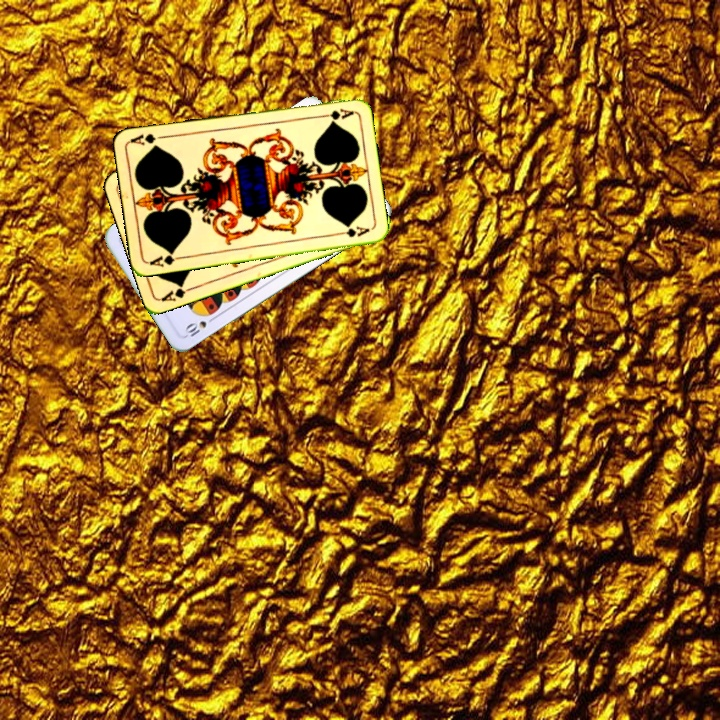GA: (158, 279, 197, 304), (145, 247, 186, 269), (315, 105, 356, 122)
S10: (181, 312, 218, 339)
